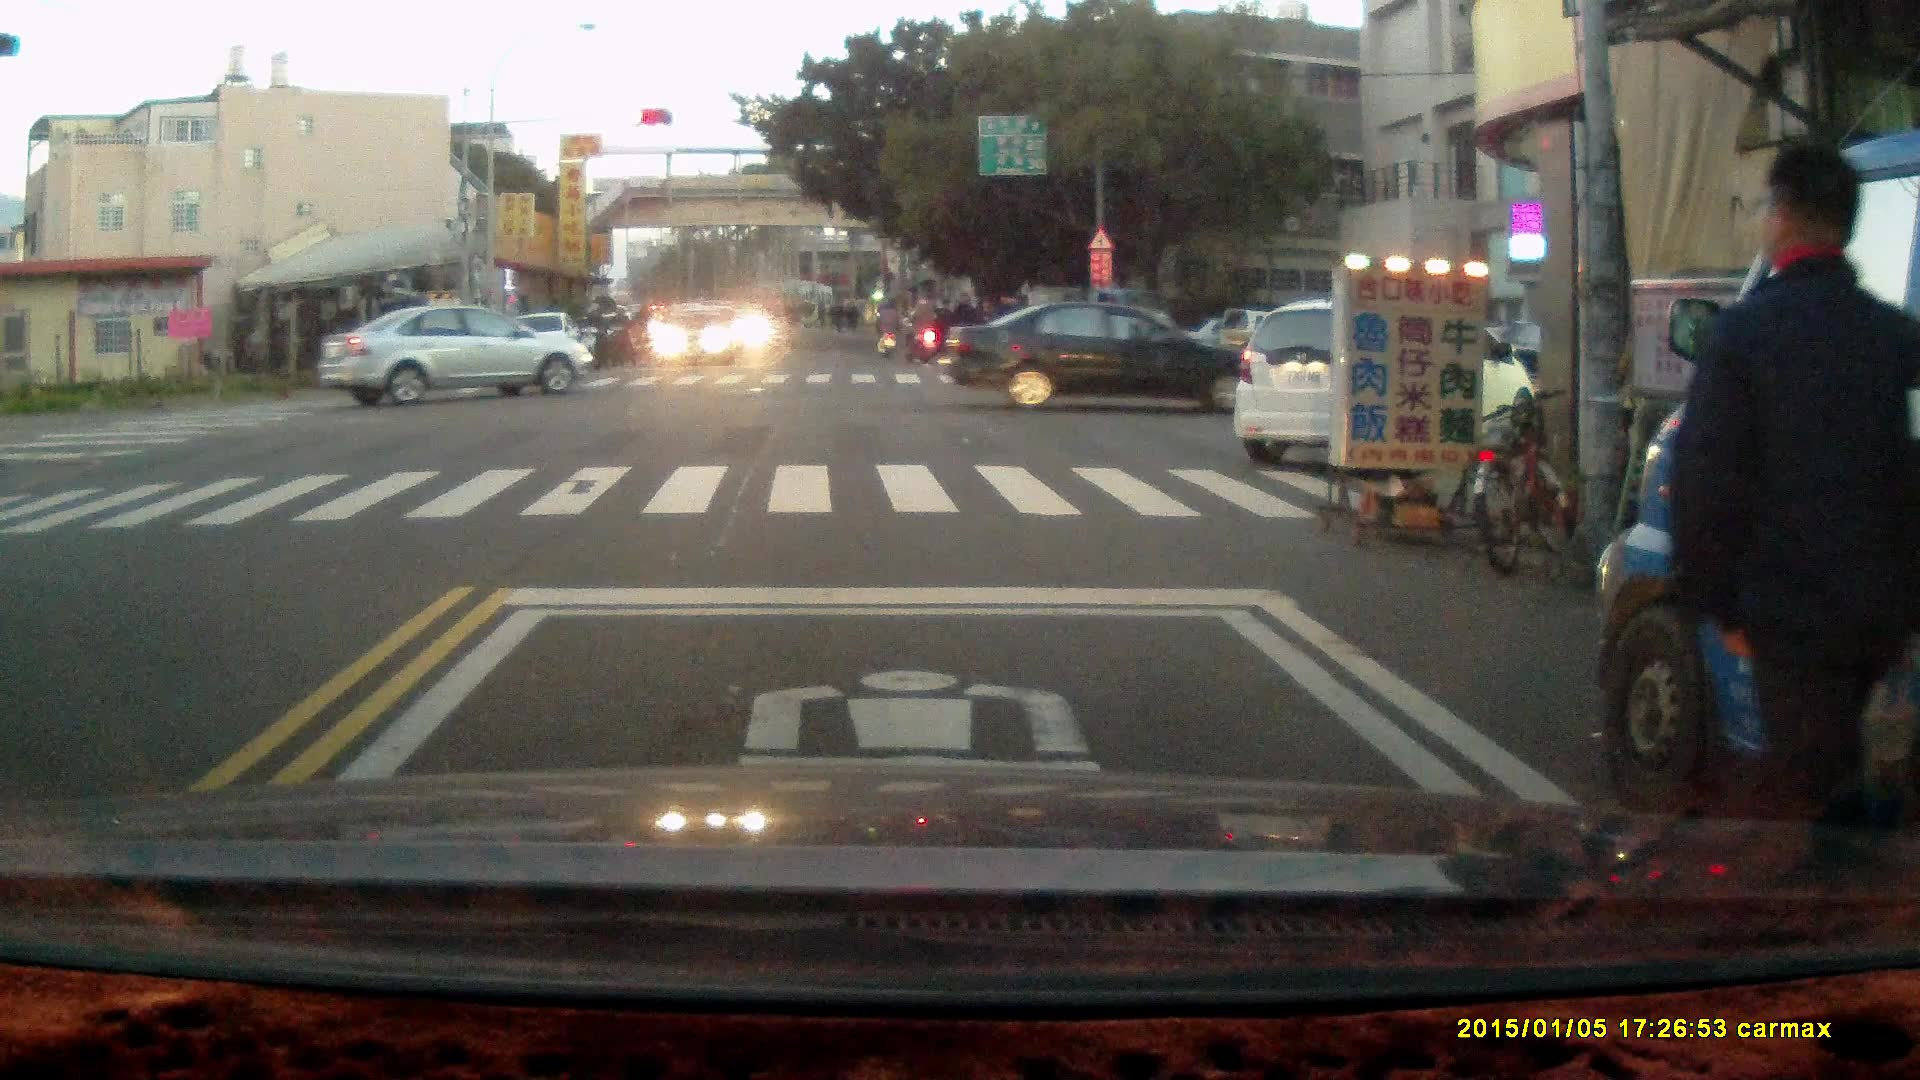pedestrian: (1669, 139, 1920, 842)
rider: (903, 296, 941, 362), (871, 295, 904, 360), (576, 301, 608, 367), (605, 302, 632, 364)
vehicle: (1598, 132, 1920, 844), (1233, 296, 1533, 459), (939, 298, 1240, 413), (322, 305, 595, 407), (1002, 284, 1179, 367)
